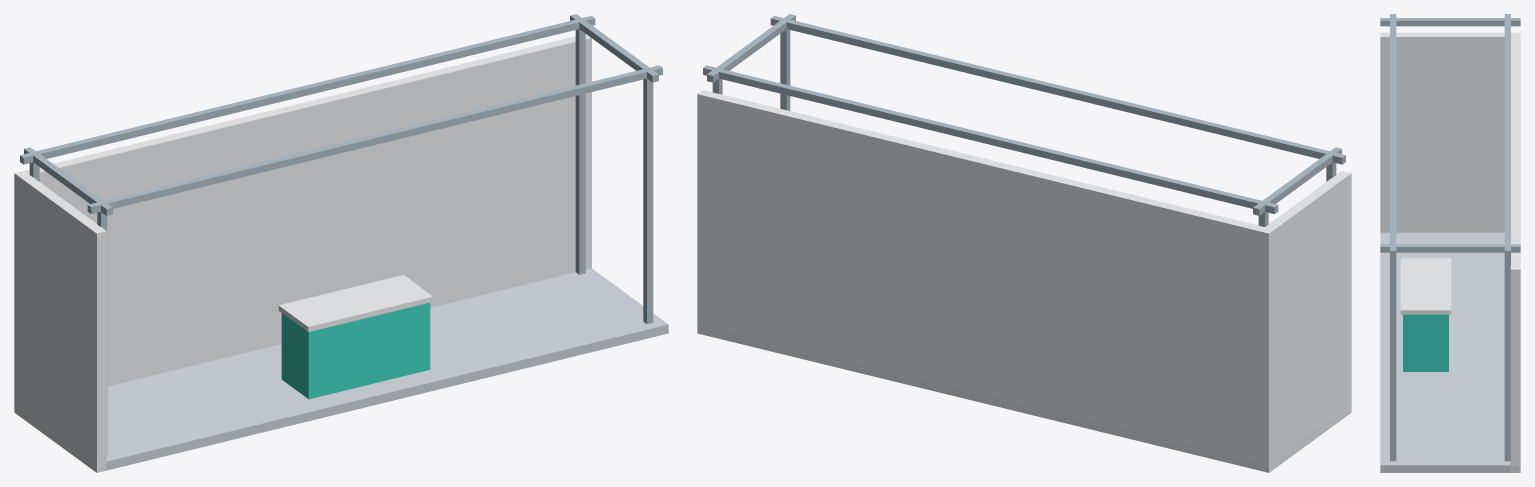
3 views of the same model, side by side, from view 1: azimuth 30°, elevation 25°; view 2: azimuth 150°, elevation 25°; view 3: azimuth 270°, elevation 25° (orthographic). The views are drawn at different scales.
Visible parts, largest first — view 1: Exhibition Booth Concept; view 2: Exhibition Booth Concept; view 3: Exhibition Booth Concept.
Boxes of the visible parts, x1,y1,x2,y2 form: Exhibition Booth Concept: (14,14,668,472); Exhibition Booth Concept: (697,14,1351,472); Exhibition Booth Concept: (1380,14,1520,472).
Bounding box in the file's own units: 8 × 3.49 × 2.
